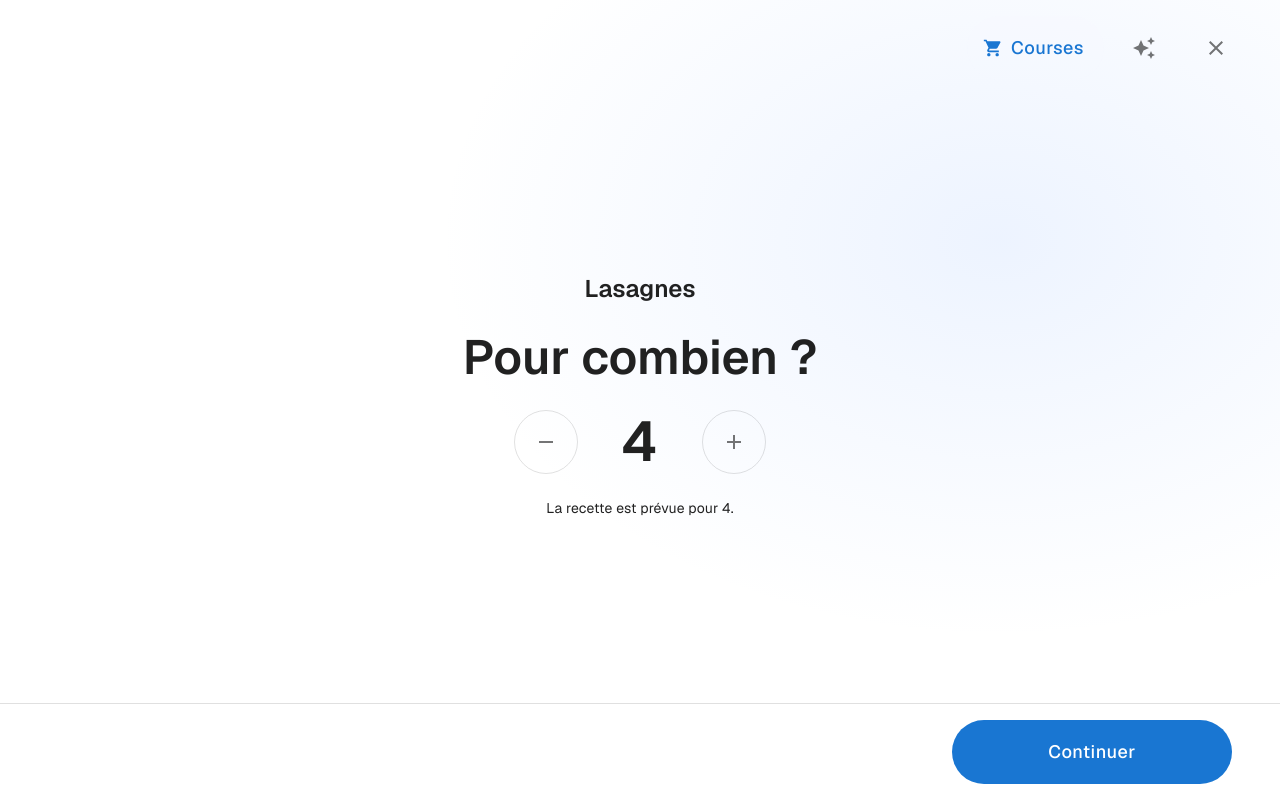
Test: CookingActivityPage › the number of people never goes under one
Expected: the heading "Pour combien ?" is shown, 463,330 -> 817,386
Click the button named "Un de moins — Nombre de personnes" at {"x": 546, "y": 442}, box 514,410 -> 578,474
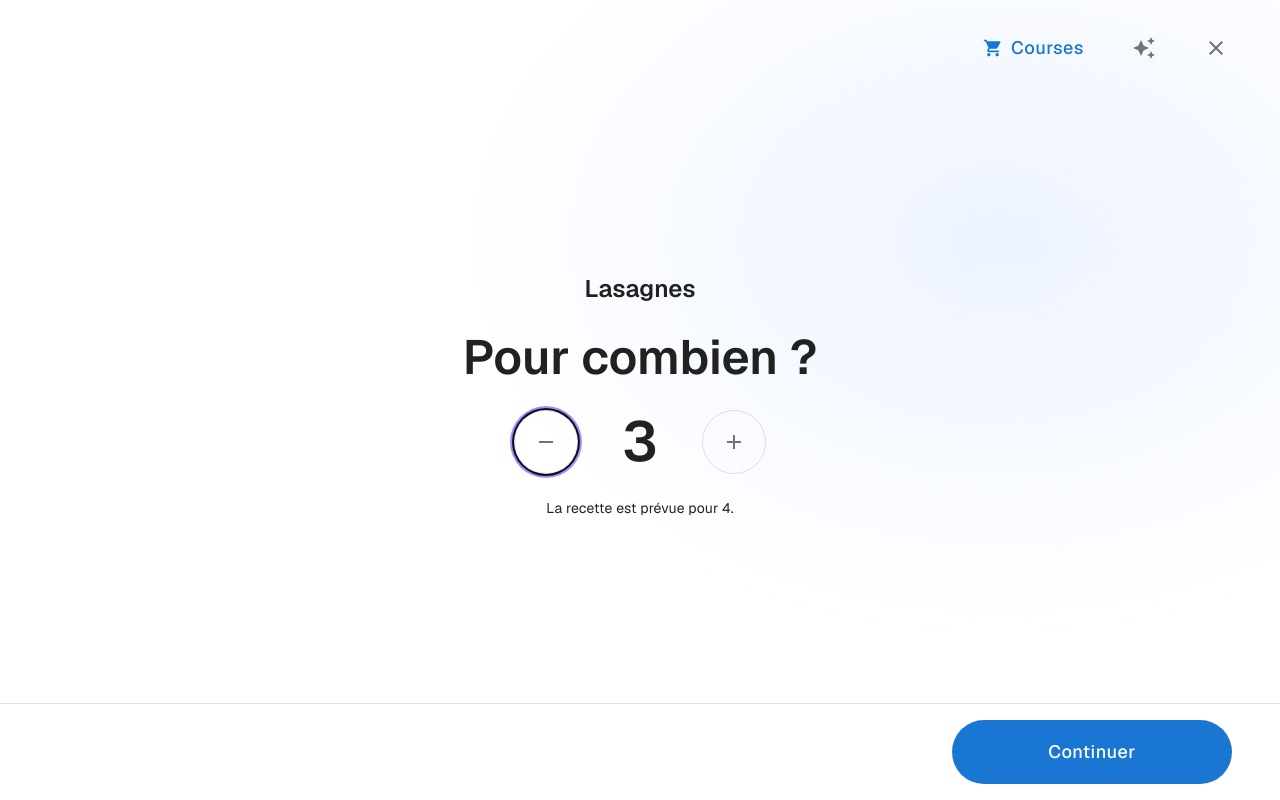
Click the button named "Un de moins" at {"x": 546, "y": 442}, box 514,410 -> 578,474
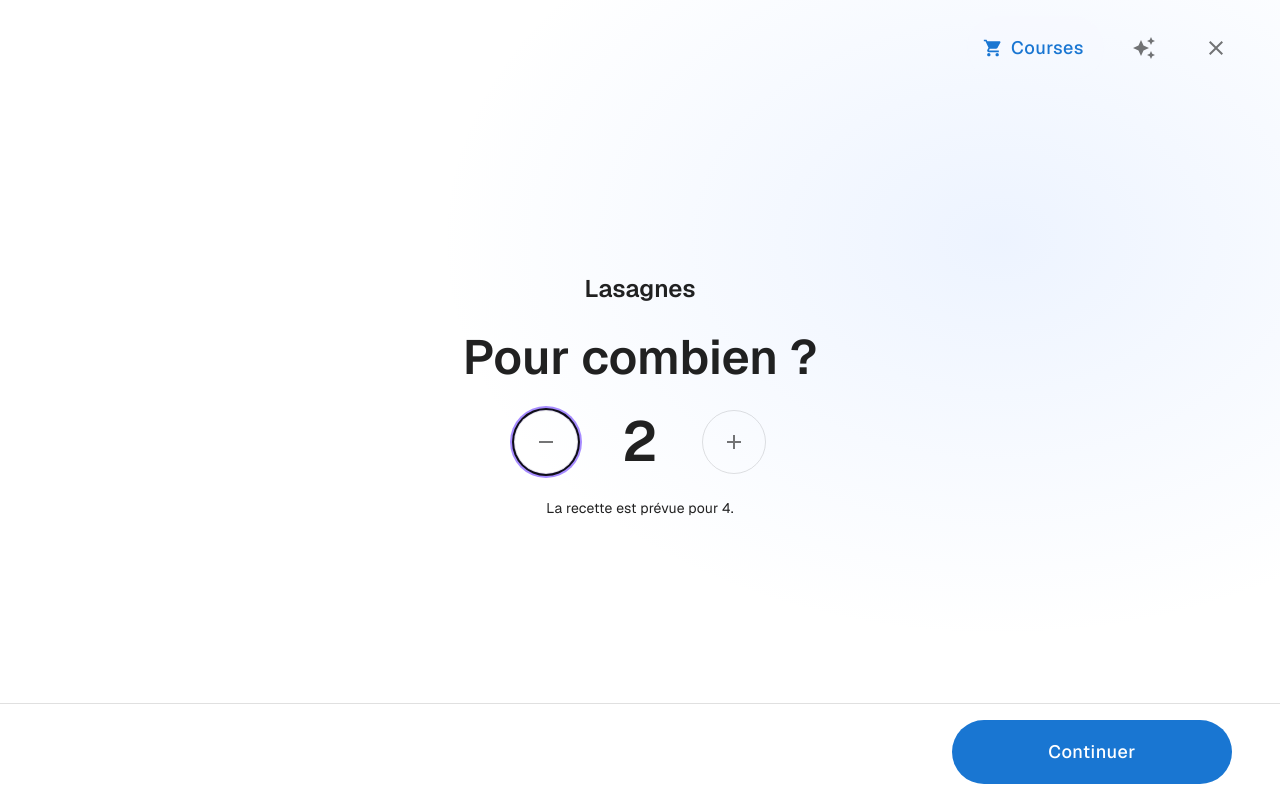
Click the button named "Un de moins" at {"x": 546, "y": 442}, box 514,410 -> 578,474
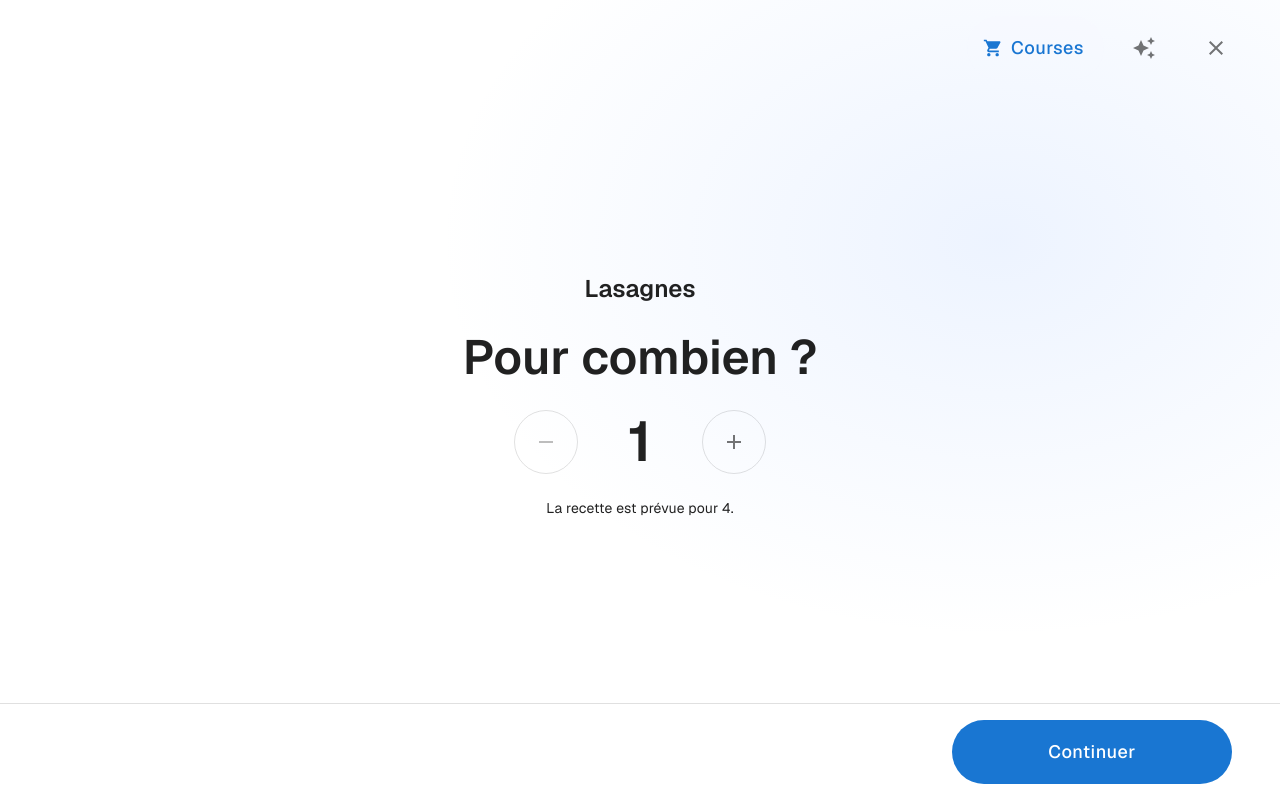
Expected: the text with test id "cooking-guests-value" reads "1", 628,404 -> 652,478
Expected: the button named "Un de moins" is disabled, 514,410 -> 578,474
